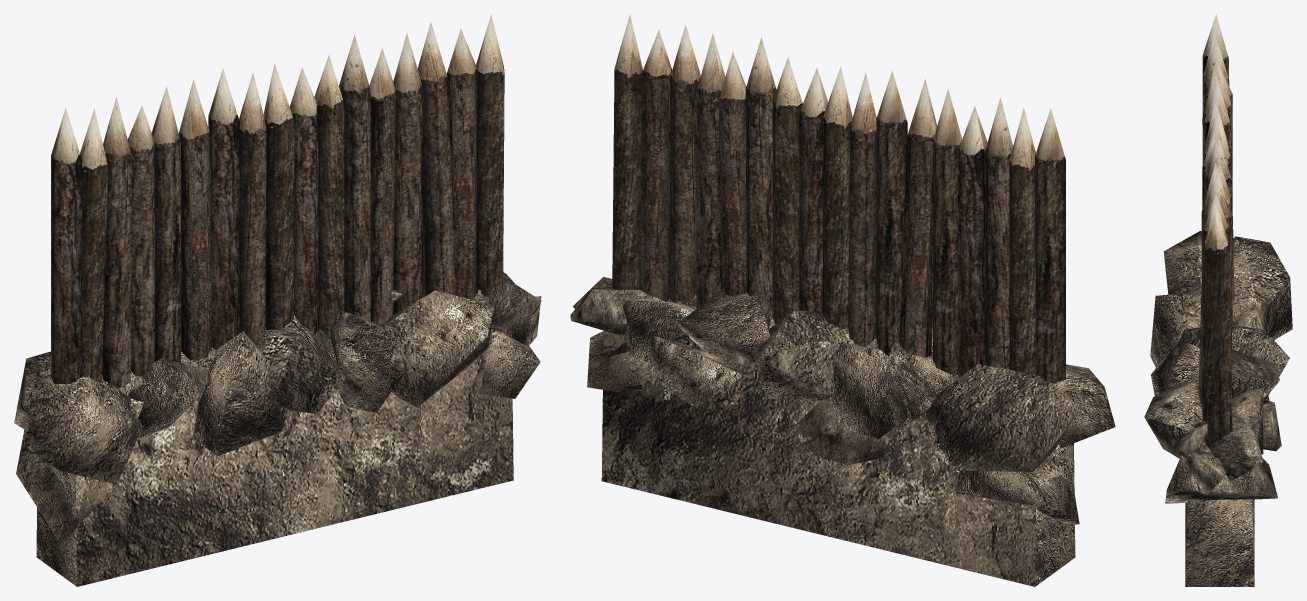
File: palisade_medium.glb
3 views of the same model, side by side, from view 1: azimuth 30°, elevation 25°; view 2: azimuth 150°, elevation 25°; view 3: azimuth 270°, elevation 25° (orthographic). The views are drawn at different scales.
Bounding box in the file's own units: 11.14 × 9.37 × 3.18.
Materials: 1 (1 with a texture image).
